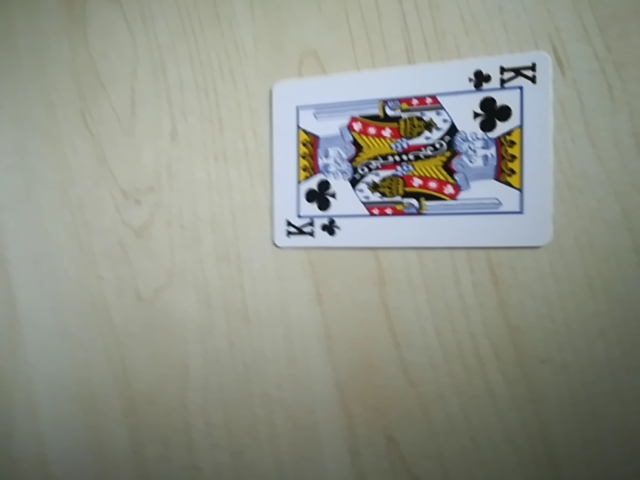mh k: (471, 58, 537, 88), (280, 214, 340, 246)
